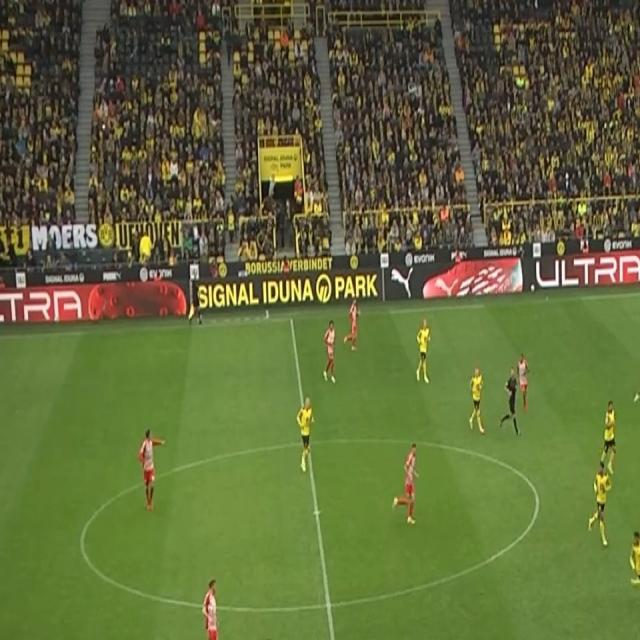ball: (261, 636, 272, 640)
